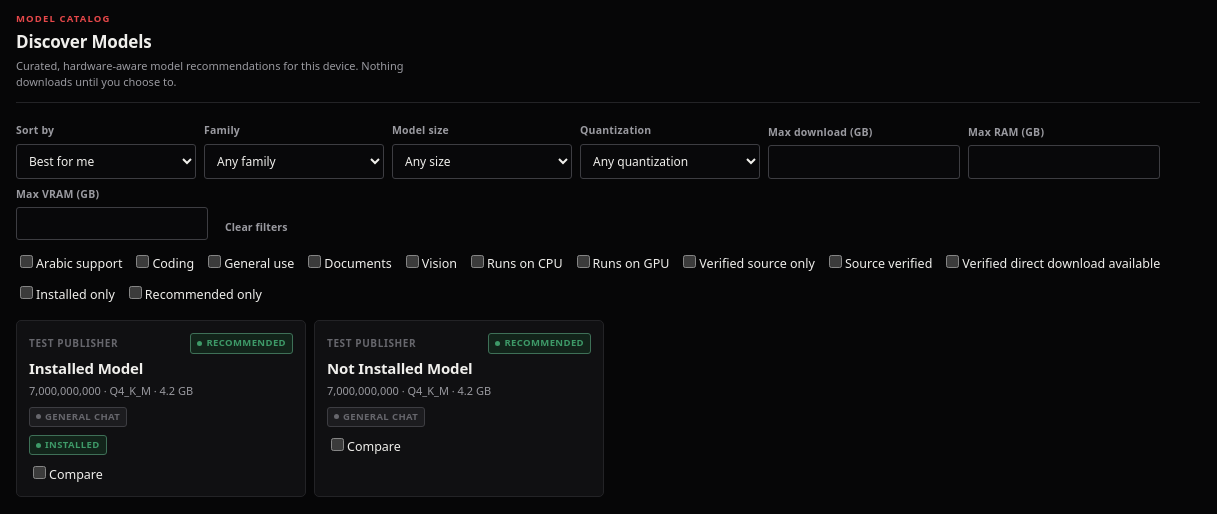
Test: Discover page — recommendation-engine-v2 integration (Stage B.6) › the 'installed only' filter hides builds that are not in the local library
Check: the text "Installed Model" is shown, box [29,358,143,378]
Click the text "Installed only". click: [65, 294]
box: [16,283,115,304]
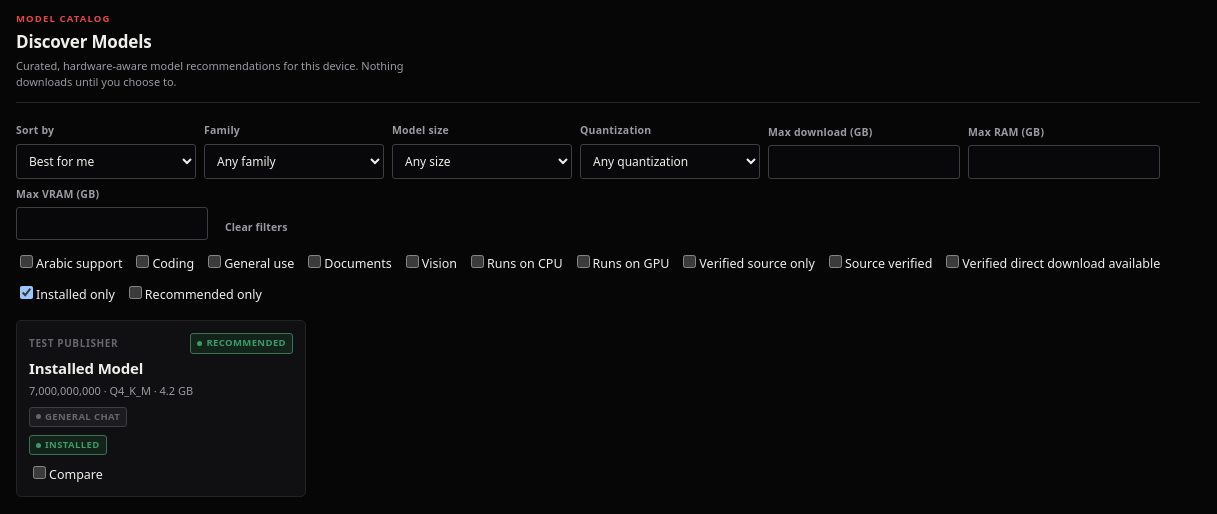
Check: the text "Installed Model" is shown, box [29,358,143,378]
Check: the button "Not Installed Model" is gone
